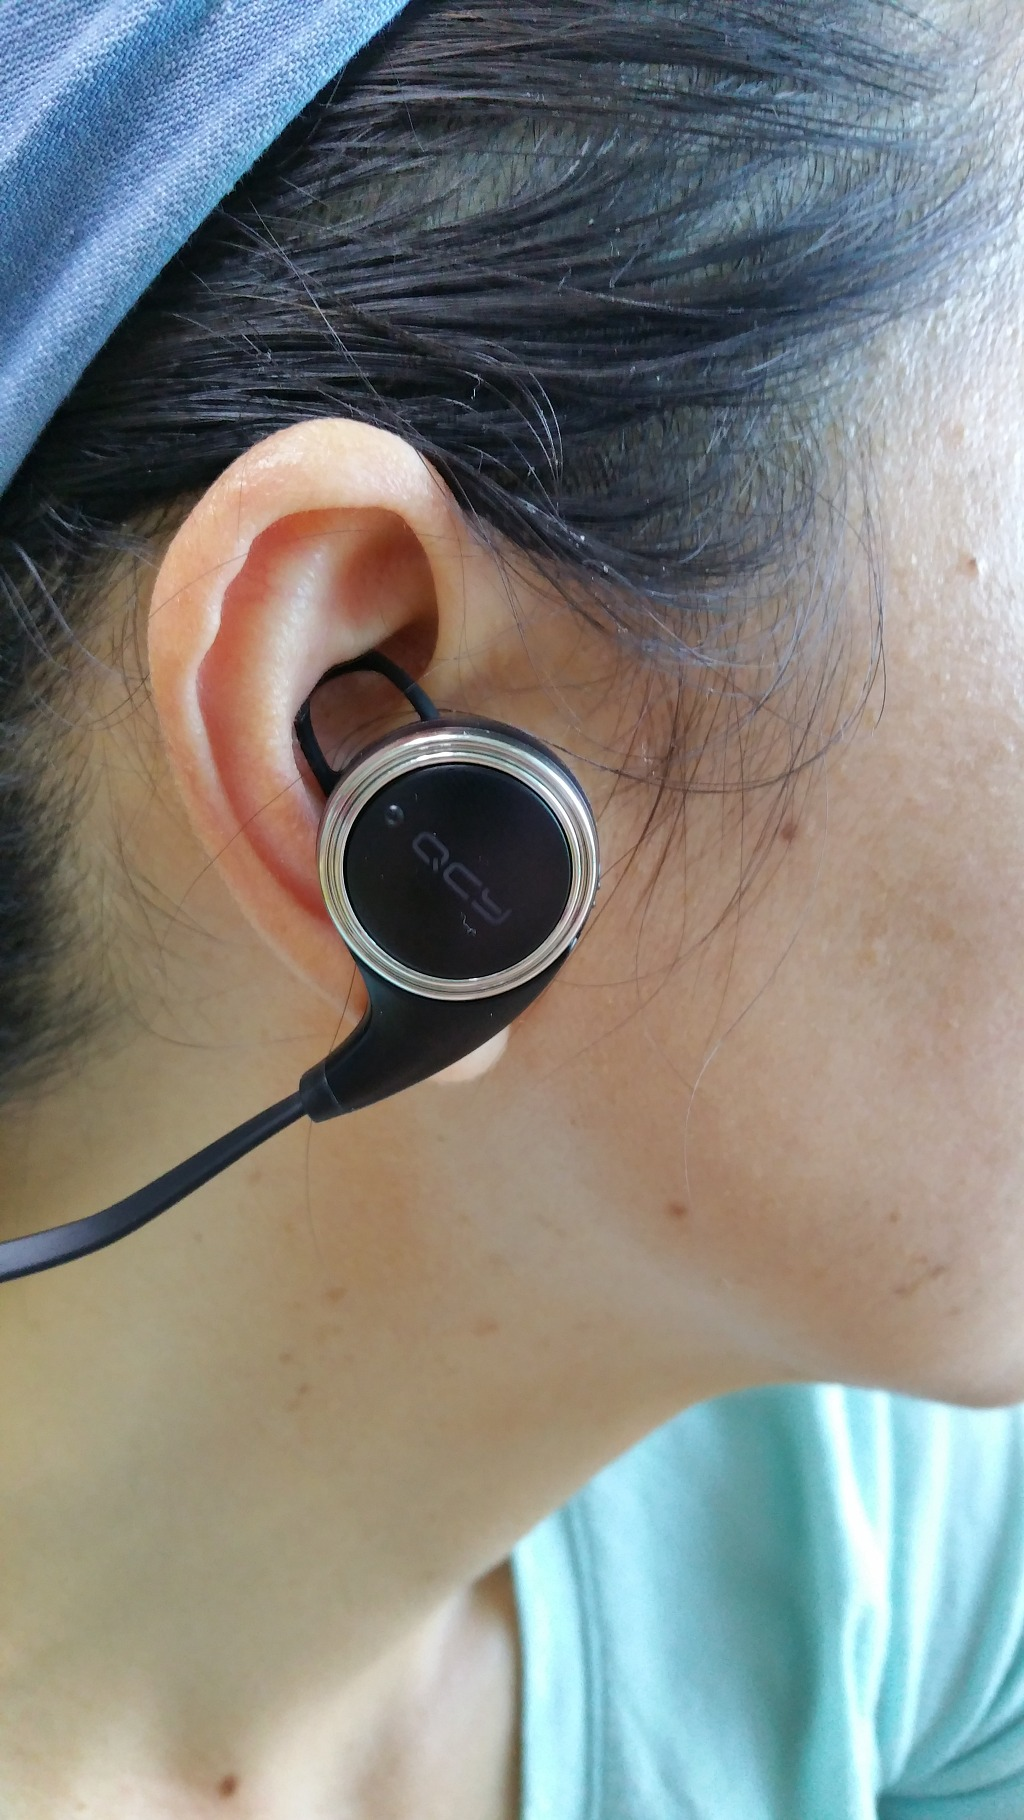earphone: (148, 417, 599, 1090)
